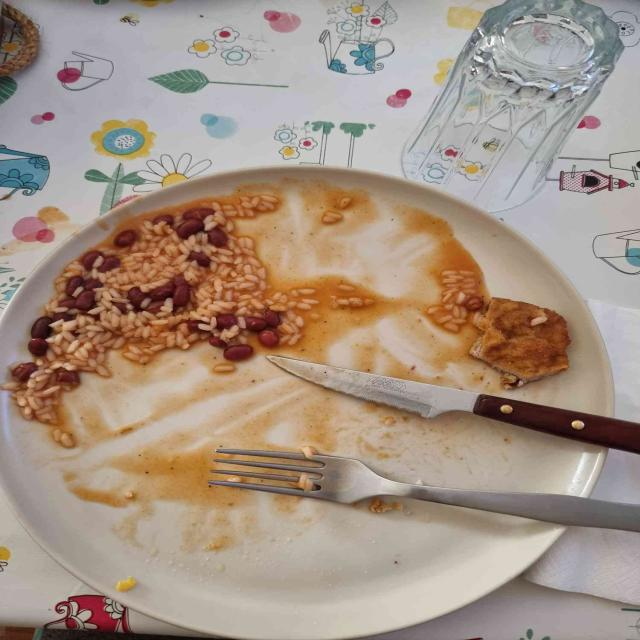black bean: (151, 208, 229, 249), (114, 273, 192, 313), (217, 309, 282, 347), (59, 275, 102, 313), (31, 312, 71, 341), (81, 251, 120, 273), (113, 230, 138, 248), (189, 251, 210, 269), (225, 348, 249, 359), (31, 343, 45, 356), (190, 321, 205, 332)
cup: (401, 0, 624, 217)
fork: (221, 456, 640, 532)
garbage: (524, 528, 640, 605), (588, 300, 640, 421), (588, 450, 640, 504)
knife: (267, 356, 640, 454)
plate: (0, 167, 614, 640)
rice: (8, 190, 375, 446)
steak: (469, 298, 571, 387)
